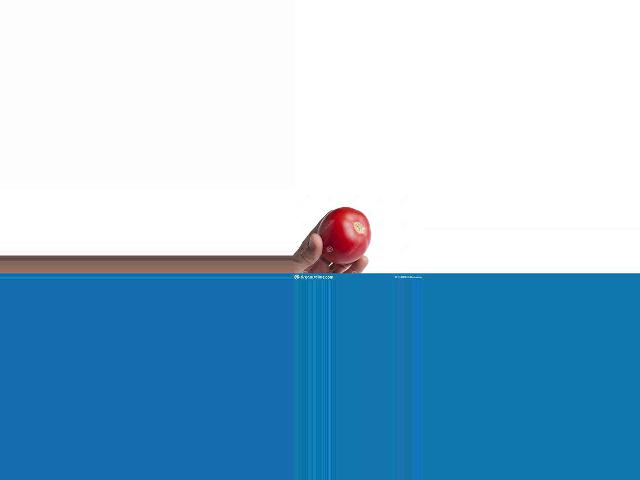tomato: (317, 207, 371, 264)
